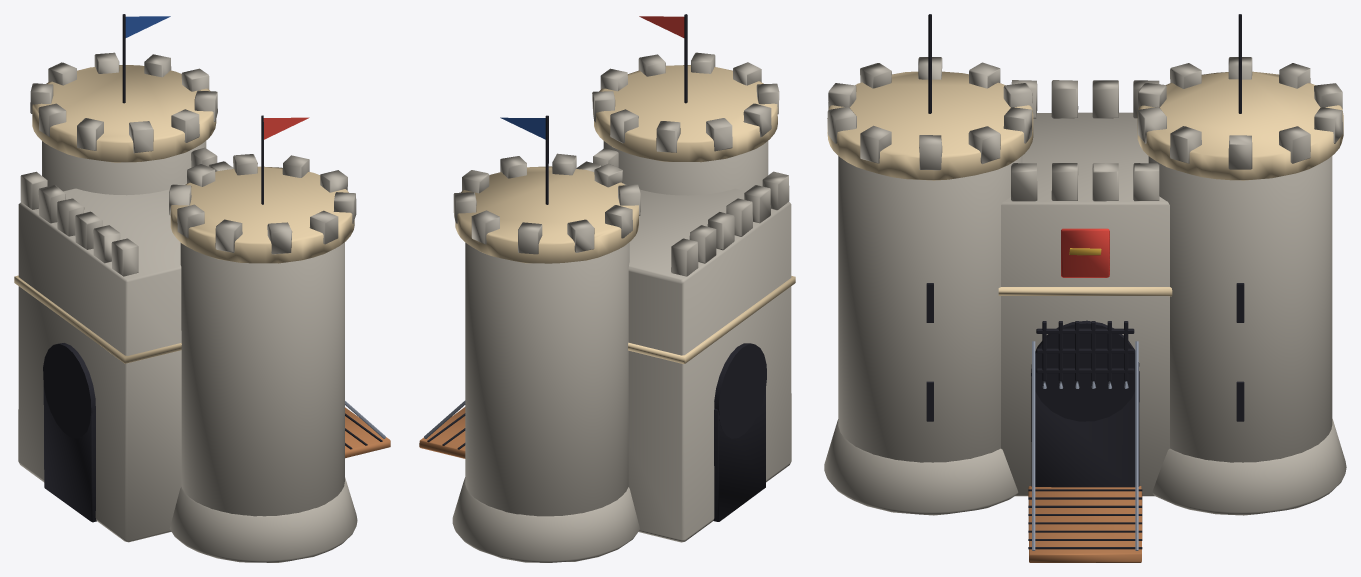
Rendered from castle_gate.glb.
The picture shows the model from 3 angles, left to right: view 1: azimuth 30°, elevation 25°; view 2: azimuth 150°, elevation 25°; view 3: azimuth 270°, elevation 25°; orthographic projection. The views are drawn at different scales.
Parts seen in each view (by area): view 1: castle_gate; view 2: castle_gate; view 3: castle_gate.
Part boxes in pixels (x1,y1,x2,y2): castle_gate: [14, 14, 390, 562]; castle_gate: [419, 14, 795, 562]; castle_gate: [824, 14, 1346, 562].
Bounding box in the file's own units: 14.19 × 18.59 × 19.2.
1 material, 1 textured.
